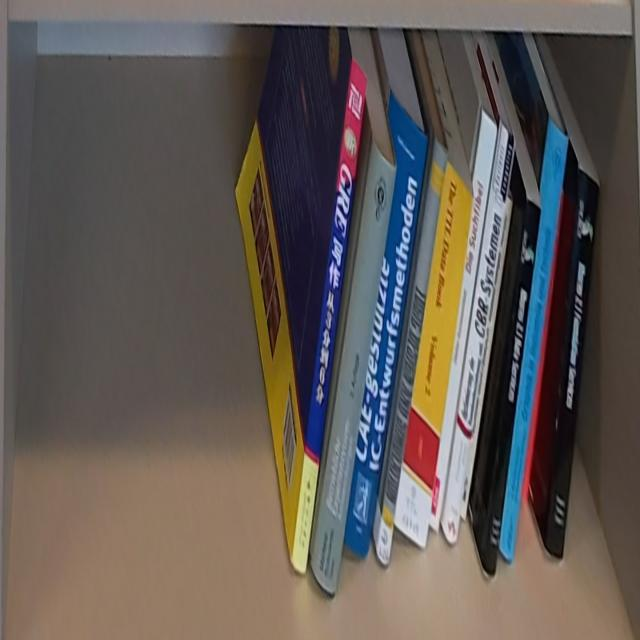Book Spine: (290, 54, 368, 582), (343, 87, 428, 561), (310, 145, 396, 595), (375, 136, 447, 573), (393, 162, 474, 549), (500, 111, 569, 564), (439, 126, 514, 542), (428, 112, 499, 542), (543, 163, 601, 562), (482, 198, 541, 578), (460, 191, 513, 522)
